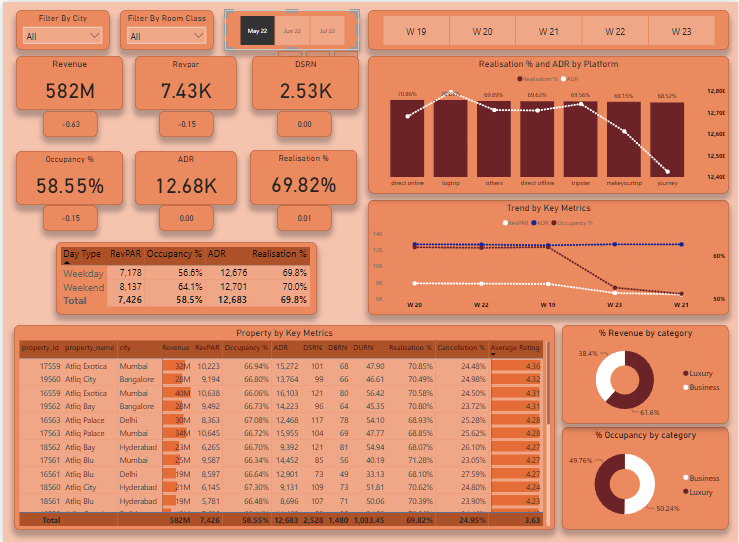

What the dashboard file says about the page in this screenshot:
{"tool":"powerbi","page":{"name":"Page 1","canvas":[1470,1080],"ordinal":0},"visuals":[{"type":"card","title":"Revenue","fields":{"Values":["Key_Measures (2).Revenue"]},"box":[26.7,109.1,213.7,108.3],"z":0,"group":"g1"},{"type":"tableEx","title":"Property by Key Metrics","fields":{"Values":["dim_hotels.property_id","dim_hotels.property_name","dim_hotels.city","Key_Measures (2).Revenue","Key_Measures (2).RevPAR","Key_Measures (2).Occupancy %","Key_Measures (2).ADR","Key_Measures (2).DSRN","Key_Measures (2).DBRN","Key_Measures (2).DURN","Key_Measures (2).Realisation %","Key_Measures (2).Cancellation %"]},"box":[21.7,645,1081.7,410],"z":0},{"type":"card","title":"Revpar","fields":{"Values":["Key_Measures (2).RevPAR"]},"box":[264.9,109.1,202.8,108.3],"z":1000,"group":"g1"},{"type":"donutChart","title":"% Occupancy by category","fields":{"Category":["dim_hotels.category"],"Y":["Key_Measures (2).Occupancy %"]},"box":[1118.3,850,333.3,205],"z":1000},{"type":"card","title":"DSRN","fields":{"Values":["Key_Measures (2).DSRN"]},"box":[497.9,108.3,213.8,107.3],"z":2000,"group":"g1"},{"type":"slicer","title":"Filter By City","fields":{"Values":["dim_hotels.city"]},"box":[25,16.7,186.7,80],"z":2000},{"type":"slicer","title":"Filter By Room Class","fields":{"Values":["dim_rooms.room_class"]},"box":[233.3,16.7,186.7,80],"z":3000},{"type":"card","title":"Occupancy %","fields":{"Values":["Key_Measures (2).Occupancy %"]},"box":[26.7,297.7,213.7,108.3],"z":3000,"group":"g1"},{"type":"slicer","title":"Filter By Months","fields":{"Values":["dim_date.mmm yy"]},"box":[443.3,16.7,268.3,80],"z":4000},{"type":"card","title":"ADR","fields":{"Values":["Key_Measures (2).ADR"]},"box":[264.9,297.7,202.8,108.3],"z":4000,"group":"g1"},{"type":"slicer","title":"Filter By Months","fields":{"Values":["dim_date.week no"]},"box":[730,16.7,721.7,80],"z":5000},{"type":"card","title":"Realisation %","fields":{"Values":["Key_Measures (2).Realisation %"]},"box":[495,296.5,213.7,109.5],"z":5000,"group":"g1"},{"type":"card","fields":{"Values":["Key_Measures (2).Revenue WoW Change %"]},"box":[79.8,217.4,108.9,52.3],"z":6000,"group":"g1"},{"type":"donutChart","title":"% Revenue by category","fields":{"Category":["dim_hotels.category"],"Y":["Key_Measures (2).Revenue"]},"box":[1118.3,645,333.3,196.7],"z":6000},{"type":"card","fields":{"Values":["Key_Measures (2).Revpar WoW change %"]},"box":[312.6,217.4,108.9,52.3],"z":7000,"group":"g1"},{"type":"pivotTable","fields":{"Rows":["dim_date.day_type"],"Values":["Key_Measures (2).RevPAR","Key_Measures (2).Occupancy %","Key_Measures (2).ADR","Key_Measures (2).Realisation %"]},"box":[106.7,480,521.7,145],"z":7000},{"type":"card","fields":{"Values":["Key_Measures (2).DSRN WoW change %"]},"box":[548.1,217.4,108.9,52.3],"z":8000,"group":"g1"},{"type":"lineChart","title":"Trend by Key Metrics","fields":{"Category":["dim_date.week no"],"Y":["Key_Measures (2).RevPAR","Key_Measures (2).ADR"],"Y2":["Key_Measures (2).Occupancy %"]},"box":[730,395,721.7,230],"z":8000},{"type":"lineStackedColumnComboChart","title":"Realisation % and ADR by Platform","fields":{"Category":["fact_bookings.booking_platform"],"Y":["Key_Measures (2).Realisation %"],"Y2":["Key_Measures (2).ADR"]},"box":[730,108.3,721.7,275],"z":9000},{"type":"card","fields":{"Values":["Key_Measures (2).Occupancy WoW change %"]},"box":[79.8,406,108.9,52.3],"z":9000,"group":"g1"},{"type":"group","id":"g1","title":"Group 1","box":[26.7,108.3,681.7,350],"z":10000},{"type":"card","fields":{"Values":["Key_Measures (2).ADR WoW change %"]},"box":[312.6,406,108.9,52.3],"z":10000,"group":"g1"},{"type":"card","fields":{"Values":["Key_Measures (2).Realisation WoW change %"]},"box":[548.1,406,108.9,52.3],"z":11000,"group":"g1"}]}

Visuals, with their boxes in screenshot pixels (x1, y1, x2, y2), scaled from the page's 1470x1080 canvas onto the 739x542 screenshot:
"Revenue" card: region(13, 55, 121, 109)
"Property by Key Metrics" tableEx: region(11, 324, 555, 529)
"Revpar" card: region(133, 55, 235, 109)
"% Occupancy by category" donutChart: region(562, 427, 730, 529)
"DSRN" card: region(250, 54, 358, 108)
"Filter By City" slicer: region(13, 8, 106, 49)
"Filter By Room Class" slicer: region(117, 8, 211, 49)
"Occupancy %" card: region(13, 149, 121, 204)
"Filter By Months" slicer: region(223, 8, 358, 49)
"ADR" card: region(133, 149, 235, 204)
"Filter By Months" slicer: region(367, 8, 730, 49)
"Realisation %" card: region(249, 149, 356, 204)
card - Key_Measures (2).Revenue WoW Change %: region(40, 109, 95, 135)
"% Revenue by category" donutChart: region(562, 324, 730, 422)
card - Key_Measures (2).Revpar WoW change %: region(157, 109, 212, 135)
pivotTable - dim_date.day_type x Key_Measures (2).RevPAR: region(54, 241, 316, 314)
card - Key_Measures (2).DSRN WoW change %: region(276, 109, 330, 135)
"Trend by Key Metrics" lineChart: region(367, 198, 730, 314)
"Realisation % and ADR by Platform" lineStackedColumnComboChart: region(367, 54, 730, 192)
card - Key_Measures (2).Occupancy WoW change %: region(40, 204, 95, 230)
"Group 1" group: region(13, 54, 356, 230)
card - Key_Measures (2).ADR WoW change %: region(157, 204, 212, 230)
card - Key_Measures (2).Realisation WoW change %: region(276, 204, 330, 230)
